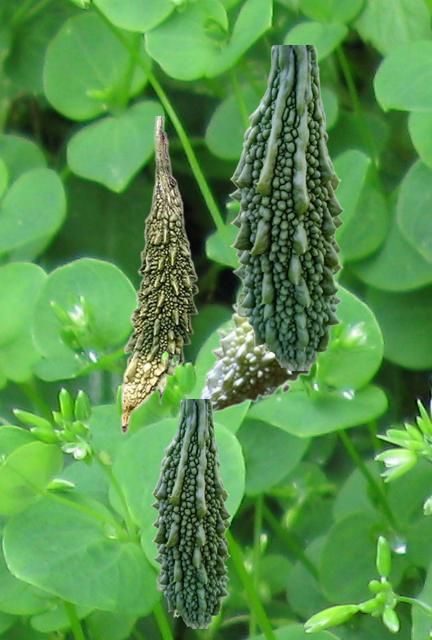ampalaya: (228, 45, 343, 369), (120, 116, 198, 434), (150, 399, 230, 627), (198, 301, 310, 413)
